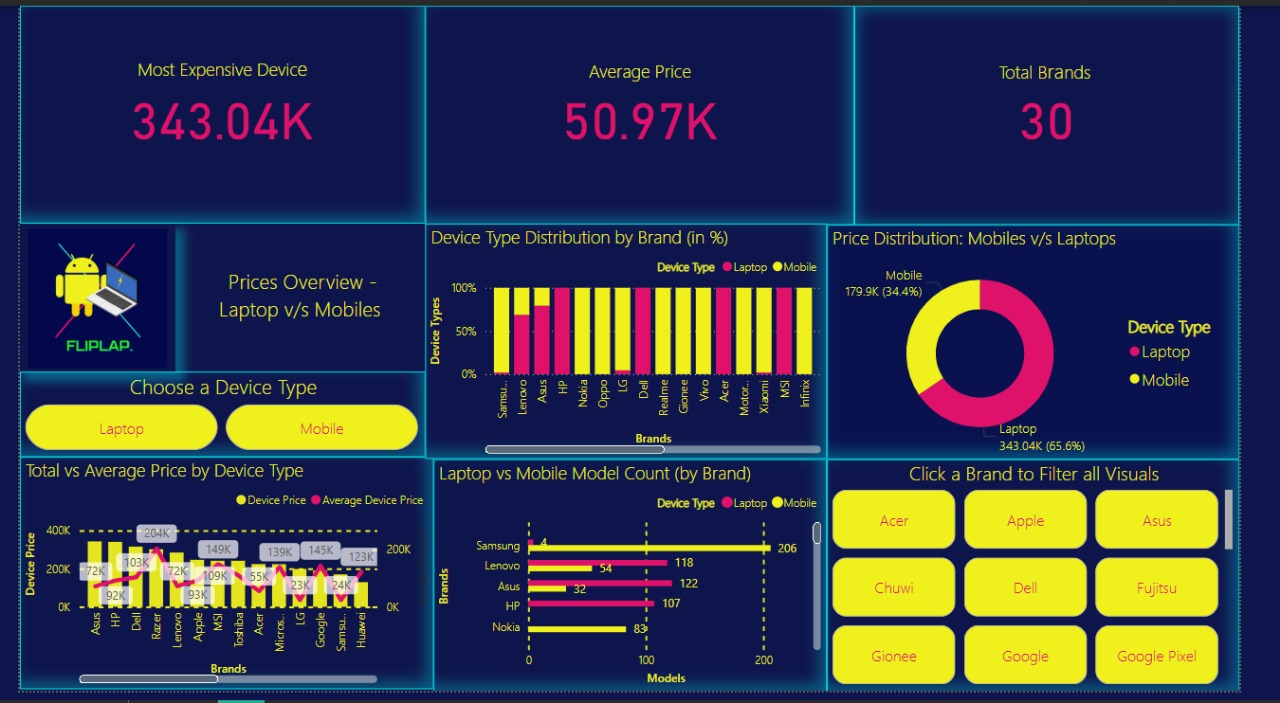

The dashboard page shown, as its layout file describes it:
{"tool":"powerbi","page":{"name":"Page 1","canvas":[1280,720],"ordinal":0},"visuals":[{"type":"card","fields":{"Values":["Combined_Phone_Laptop_Dataset.MaxCleansedPrice"]},"box":[0,0,425.4,228.9],"z":0},{"type":"textbox","box":[109.5,46,206.5,43.5],"z":1000},{"type":"advancedSlicerVisual","title":"Choose a Device Type","fields":{"Values":["Combined_Phone_Laptop_Dataset.Device Type"]},"box":[0,384.4,425.4,89.6],"z":2000},{"type":"card","fields":{"Values":["Combined_Phone_Laptop_Dataset.Avg of DevicePrice"]},"box":[425.4,0,450.3,230.1],"z":3000},{"type":"textbox","box":[583.4,51,134.3,34.8],"z":4000},{"type":"clusteredBarChart","title":"Laptop vs Mobile Model Count (by Brand)","fields":{"Category":["Combined_Phone_Laptop_Dataset.Brand"],"Y":["Count(Combined_Phone_Laptop_Dataset.Model)"],"Series":["Combined_Phone_Laptop_Dataset.Device Type"]},"box":[434.1,476.4,413,243.8],"z":5000},{"type":"donutChart","title":"Price Distribution: Mobiles v/s Laptops","fields":{"Category":["Combined_Phone_Laptop_Dataset.Device Type"],"Y":["Combined_Phone_Laptop_Dataset.Device_Price"]},"box":[847.1,230.1,432.9,246.3],"z":6000},{"type":"lineClusteredColumnComboChart","title":"Total vs Average Price by Device Type","fields":{"Y":["Combined_Phone_Laptop_Dataset.Device_Price"],"Y2":["Combined_Phone_Laptop_Dataset.Avg of DevicePrice"],"Category":["Combined_Phone_Laptop_Dataset.Brand"]},"box":[0,473.9,434.1,243.8],"z":7000},{"type":"hundredPercentStackedColumnChart","title":"Device Type Distribution by Brand (in %)","fields":{"Category":["Combined_Phone_Laptop_Dataset.Brand"],"Y":["Count(Combined_Phone_Laptop_Dataset.Model)"],"Series":["Combined_Phone_Laptop_Dataset.Device Type"]},"box":[425.4,228.9,421.7,247.5],"z":8000},{"type":"card","fields":{"Values":["Count(Combined_Phone_Laptop_Dataset.Brand)"]},"box":[875.7,0,404.3,230.1],"z":9000},{"type":"textbox","box":[1017.6,51,120.7,38.6],"z":10000},{"type":"advancedSlicerVisual","title":"Click a Brand to Filter all Visuals","fields":{"Values":["Combined_Phone_Laptop_Dataset.Brand"]},"box":[847.1,476.4,432.9,243.8],"z":11000},{"type":"image","box":[0,228.9,163,155.5],"z":12000},{"type":"textbox","box":[177.9,269.9,237.6,83.3],"z":13000}]}

Visuals, with their boxes in screenshot pixels (x1, y1, x2, y2), scaled from the page's 1280x720 canvas onto the 1280x703 screenshot:
card - Combined_Phone_Laptop_Dataset.MaxCleansedPrice: locate(0, 0, 425, 223)
textbox: locate(110, 45, 316, 87)
"Choose a Device Type" advancedSlicerVisual: locate(0, 375, 425, 463)
card - Combined_Phone_Laptop_Dataset.Avg of DevicePrice: locate(425, 0, 876, 225)
textbox: locate(583, 50, 718, 84)
"Laptop vs Mobile Model Count (by Brand)" clusteredBarChart: locate(434, 465, 847, 702)
"Price Distribution: Mobiles v/s Laptops" donutChart: locate(847, 225, 1279, 465)
"Total vs Average Price by Device Type" lineClusteredColumnComboChart: locate(0, 463, 434, 701)
"Device Type Distribution by Brand (in %)" hundredPercentStackedColumnChart: locate(425, 223, 847, 465)
card - Count(Combined_Phone_Laptop_Dataset.Brand): locate(876, 0, 1279, 225)
textbox: locate(1018, 50, 1138, 87)
"Click a Brand to Filter all Visuals" advancedSlicerVisual: locate(847, 465, 1279, 702)
image: locate(0, 223, 163, 375)
textbox: locate(178, 264, 416, 345)
